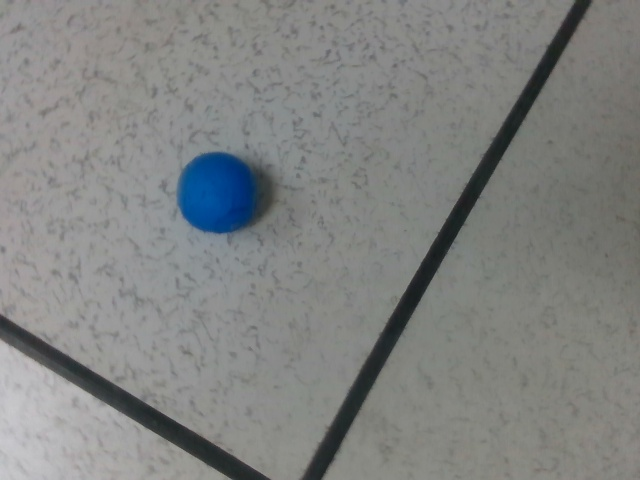blueball: (174, 146, 261, 240)
